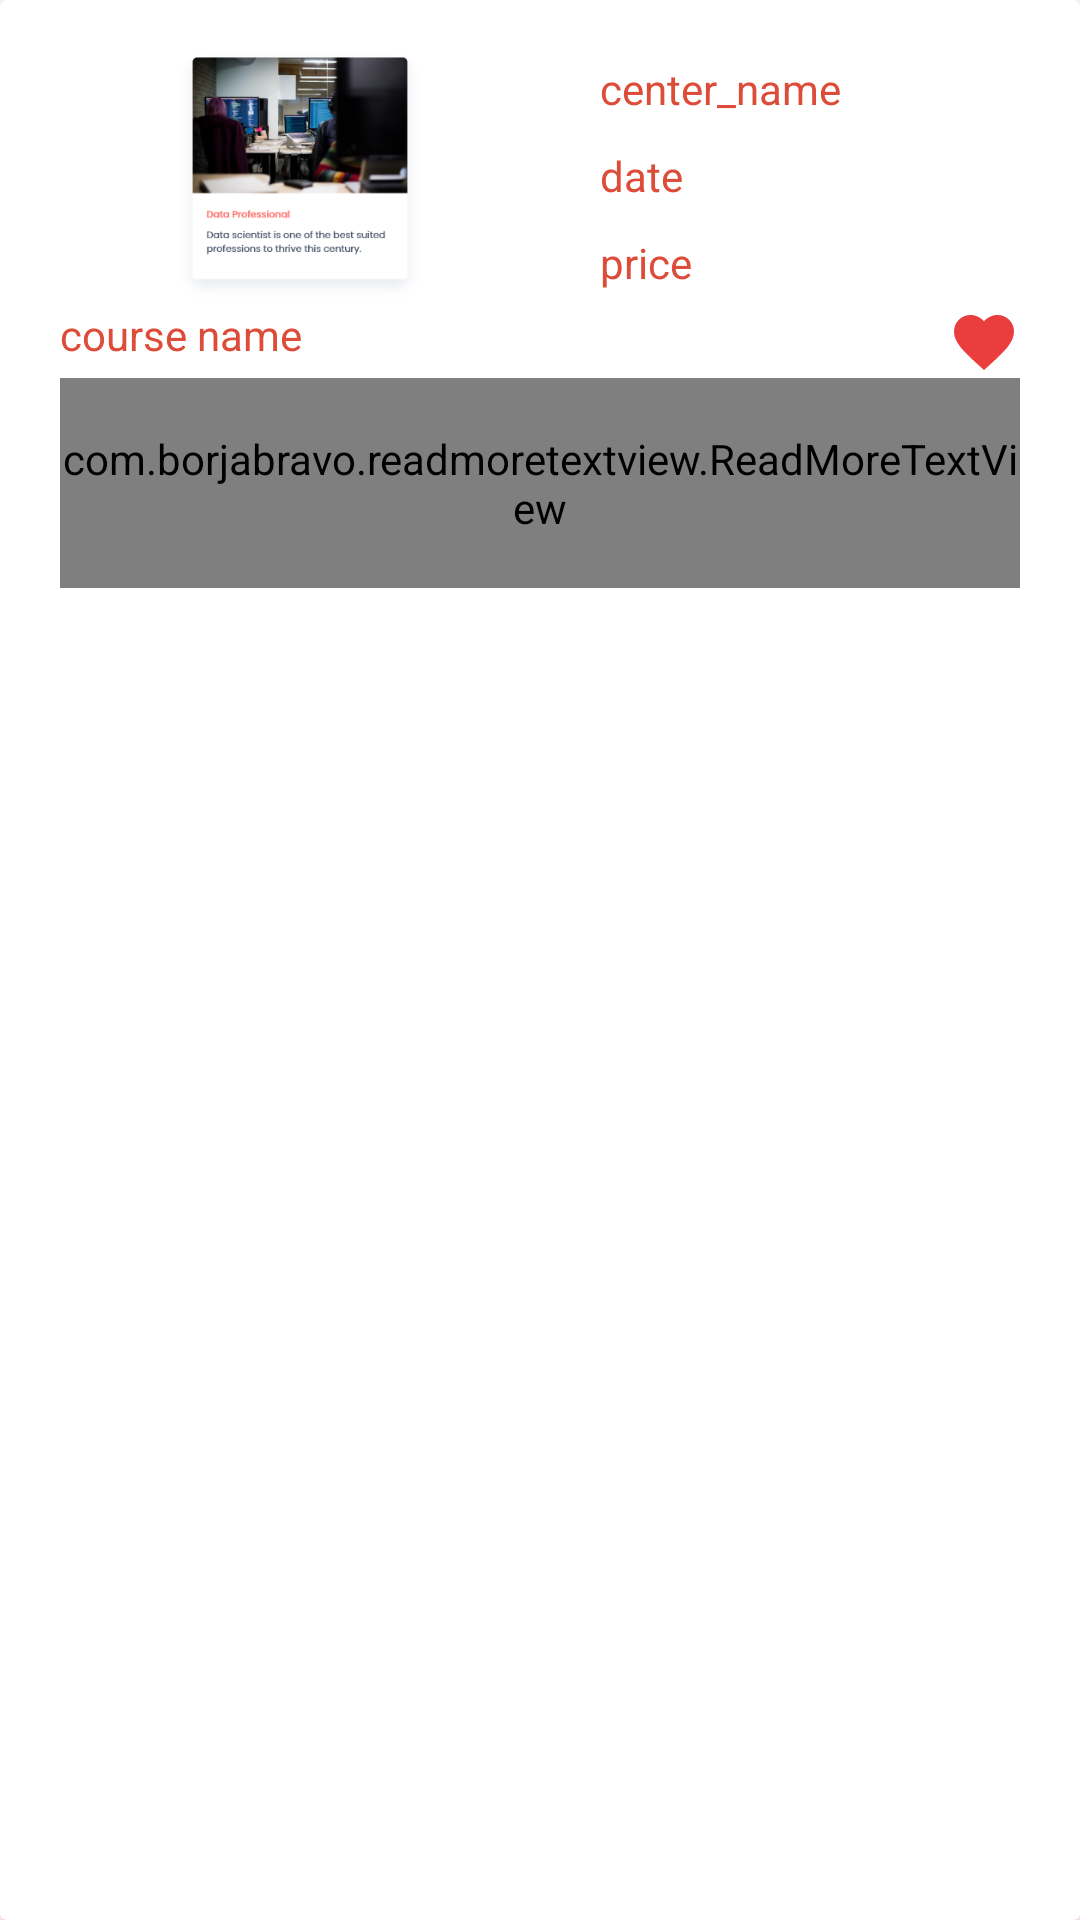

Point at icon controls on the screen. Image size 1080w x 1920h, points as point (x, y).
favourite: point (984, 342)
